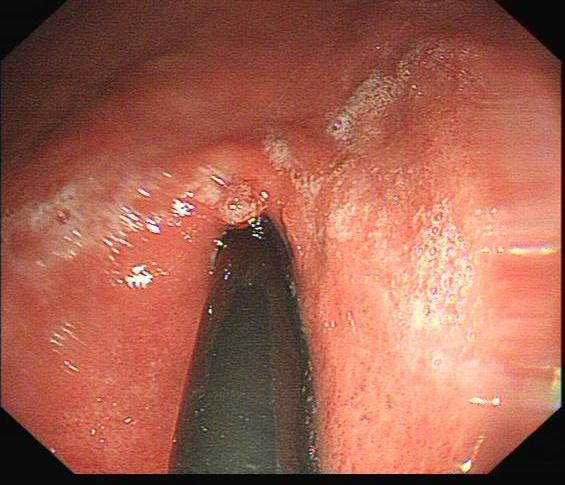Polyp: (213, 172, 268, 225)
